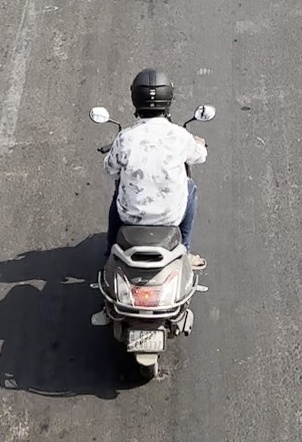BikeWithRider: (74, 58, 239, 384)
Helmet: (123, 65, 180, 119)
